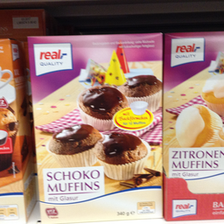cake: (26, 32, 165, 220), (161, 28, 224, 218)
